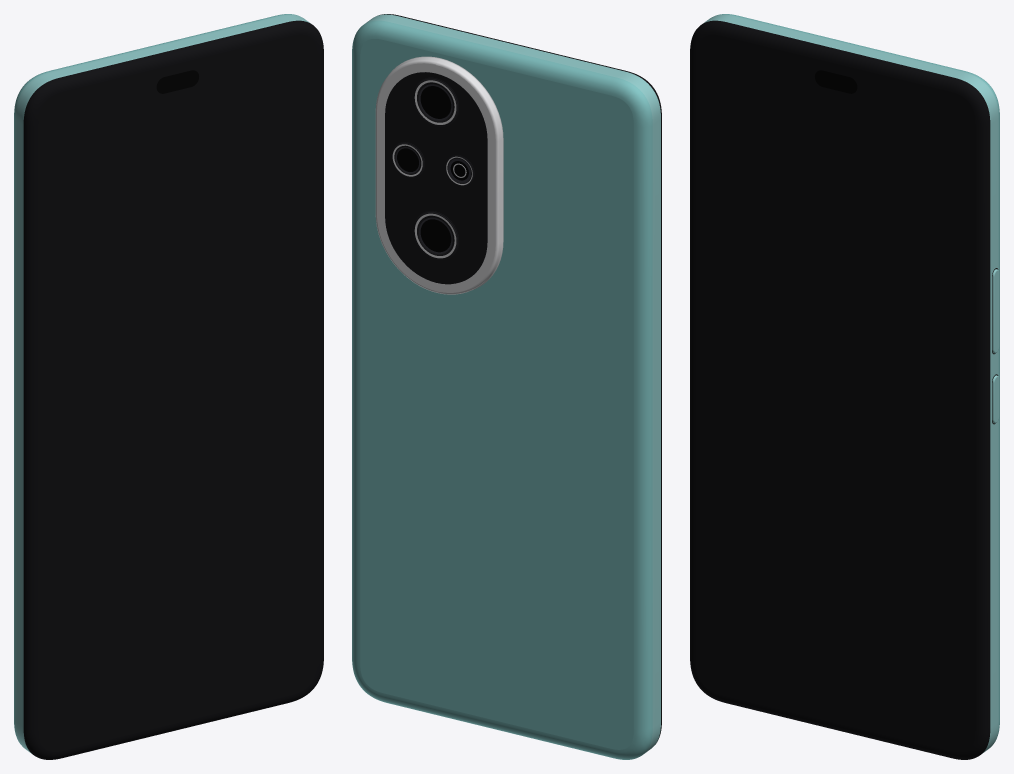
Rendered from honor-200-pro.glb.
3 views of the same model, side by side, from view 1: azimuth 30°, elevation 25°; view 2: azimuth 150°, elevation 25°; view 3: azimuth 330°, elevation 25° (orthographic).
Visible parts, largest first — view 1: body, punch; view 2: body, camera; view 3: body, buttons, punch.
Part boxes in pixels (x1,y1,x2,y2): body: (14,14,323,759); punch: (156,70,198,93); body: (352,14,661,759); camera: (375,56,503,294); body: (690,14,999,759); buttons: (992,268,999,424); punch: (814,70,857,93).
Size of the model in its own units: 75.63 by 163 by 10.52.
